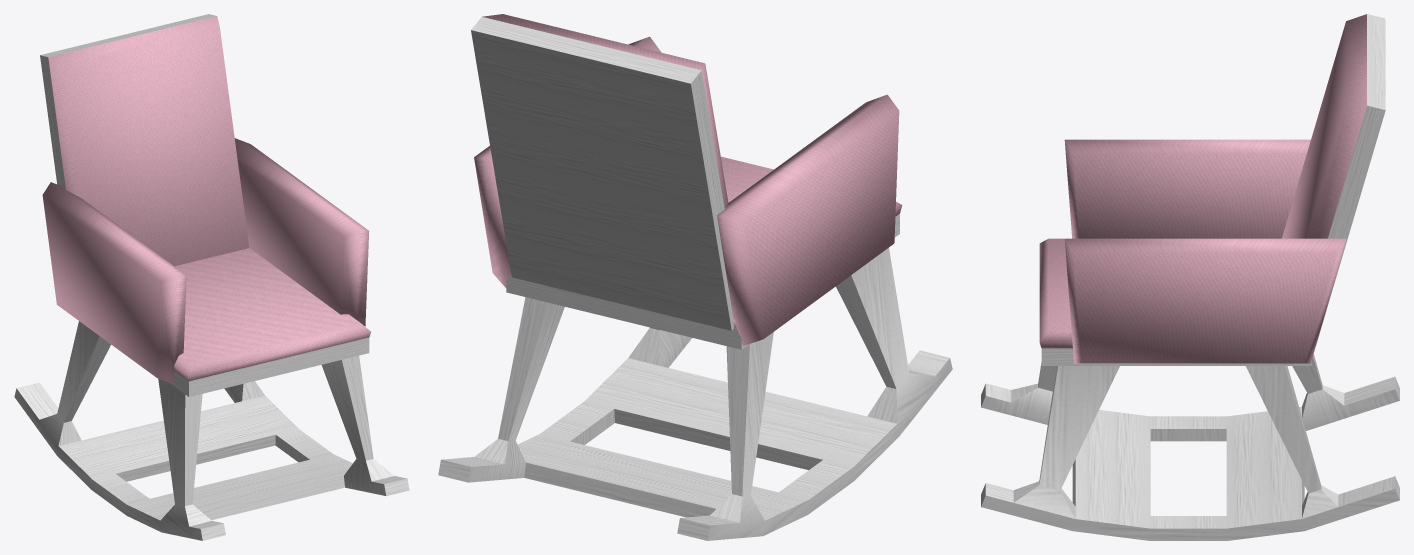
File: Rocker_A.FBX
3 renders of one model, left to right at view 1: azimuth 30°, elevation 25°; view 2: azimuth 150°, elevation 25°; view 3: azimuth 270°, elevation 25°, orthographic. The views are drawn at different scales.
Parts seen in each view (by area): view 1: Rocker; view 2: Rocker; view 3: Rocker.
Part boxes in pixels (x1,y1,x2,y2): Rocker: (14,14,409,540); Rocker: (438,14,952,540); Rocker: (981,14,1399,540).
Size of the model in its own units: 99.55 by 175 by 156.
